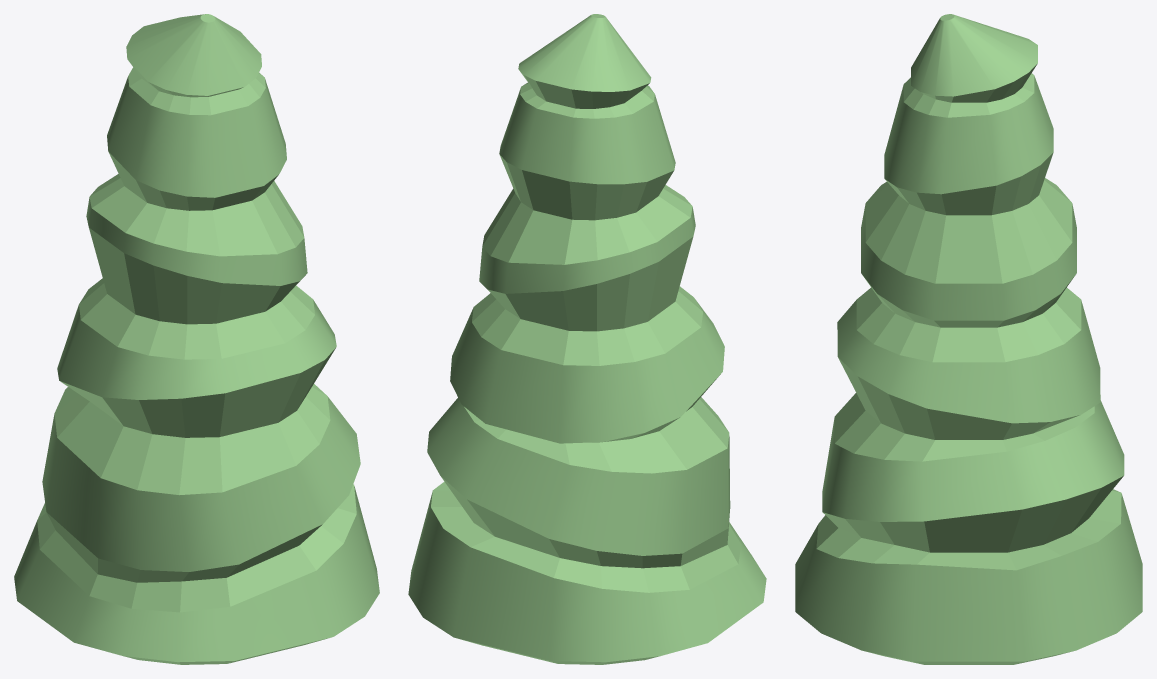
The model's file is tree 2.fbx.
The picture shows the model from 3 angles, left to right: view 1: azimuth 30°, elevation 25°; view 2: azimuth 150°, elevation 25°; view 3: azimuth 270°, elevation 25°; orthographic projection. The views are drawn at different scales.
Parts seen in each view (by area): view 1: arbre_2:arbre_type_2_LD; view 2: arbre_2:arbre_type_2_LD; view 3: arbre_2:arbre_type_2_LD.
Boxes of the visible parts, x1,y1,x2,y2 form: arbre_2:arbre_type_2_LD: [14, 14, 379, 664]; arbre_2:arbre_type_2_LD: [408, 14, 766, 664]; arbre_2:arbre_type_2_LD: [795, 14, 1142, 664].
Bounding box in the file's own units: 3460 × 6494 × 3460.
